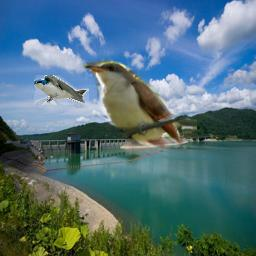Cuckoo: (80, 53, 197, 149)
Swallow: (34, 75, 89, 105)
